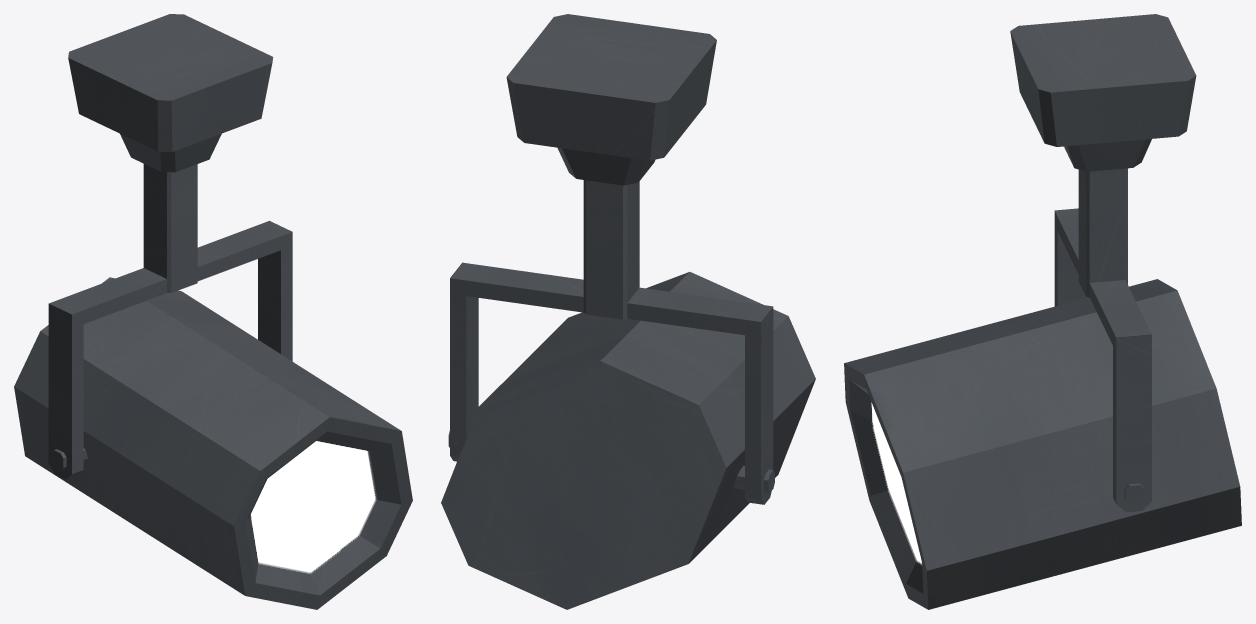
The model's file is spotlight_simple_animado.fbx.
3 views of the same model, side by side, from view 1: azimuth 30°, elevation 25°; view 2: azimuth 150°, elevation 25°; view 3: azimuth 270°, elevation 25° (orthographic). The views are drawn at different scales.
Parts seen in each view (by area): view 1: Spotlight.001, Spotlight; view 2: Spotlight.001, Spotlight; view 3: Spotlight.001, Spotlight.
Part boxes in pixels (left/top/right/bottom): Spotlight.001: left=14, top=277, right=412, bottom=609; Spotlight: left=48, top=14, right=292, bottom=479; Spotlight.001: left=441, top=272, right=815, bottom=609; Spotlight: left=448, top=14, right=774, bottom=504; Spotlight.001: left=844, top=279, right=1241, bottom=609; Spotlight: left=1010, top=14, right=1196, bottom=512.
Bounding box in the file's own units: 21.48 × 35.45 × 24.68.
1 material, 1 textured.
